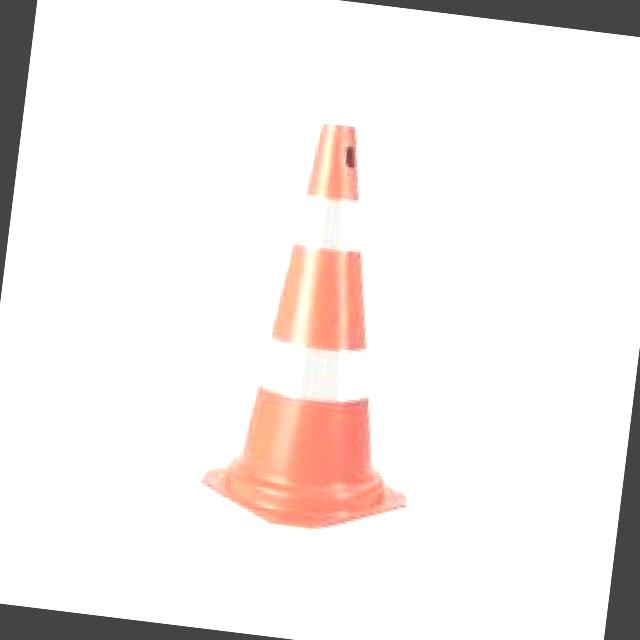cone: (176, 110, 461, 554)
